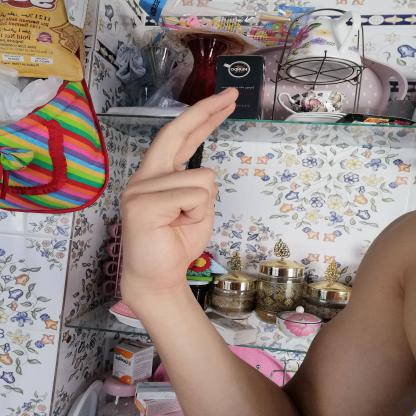ZAY: (112, 80, 254, 309)
